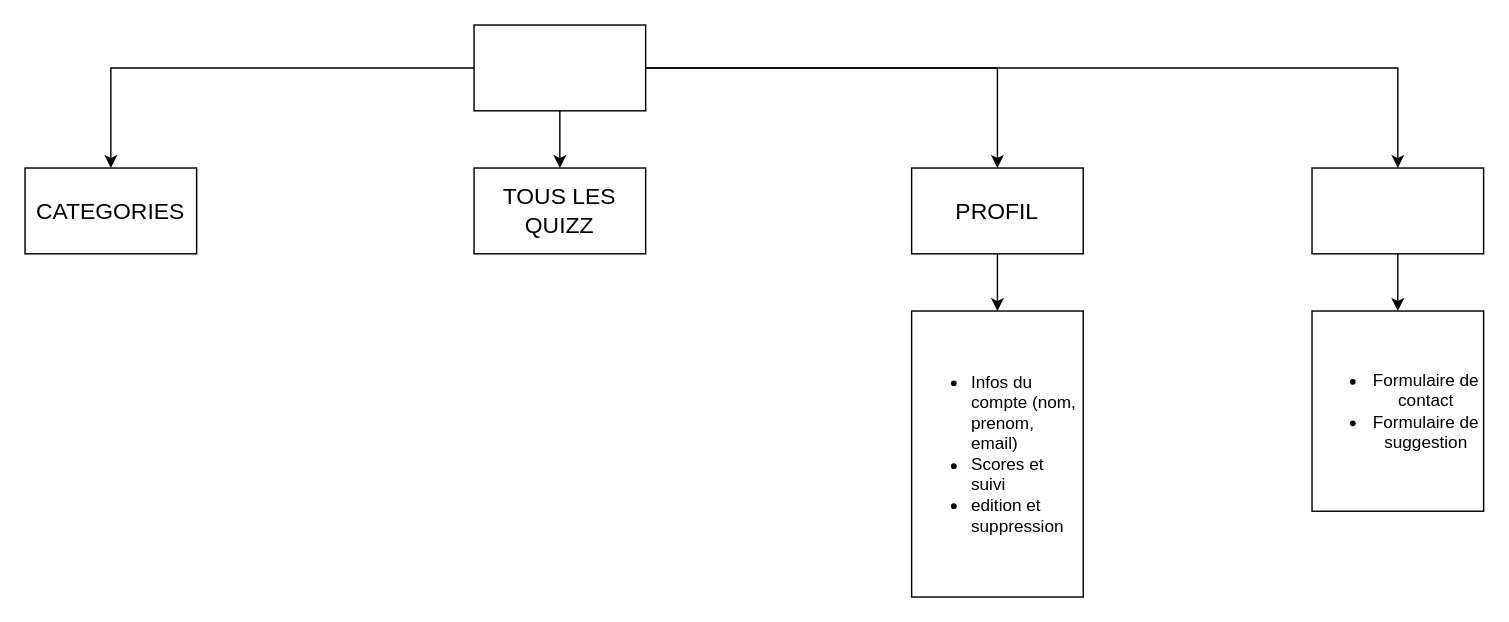
Some shapes in this 1509 by 622 pixel diagram are drawn without their labels. The centre of each missing label's shape, as x and y in pixels:
CONTACT: (x=1397, y=210)
HOME: (x=559, y=67)
